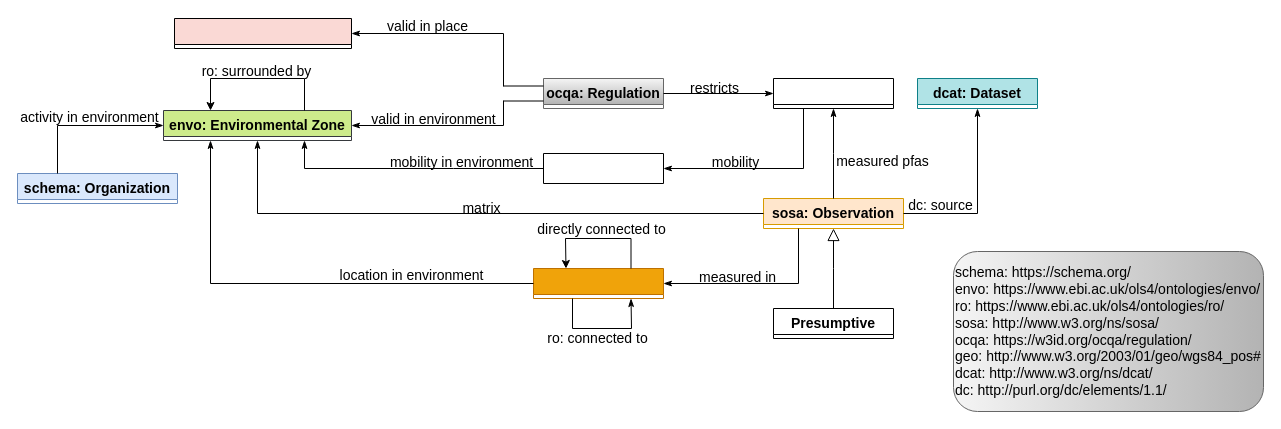
Some shapes in this 1281 by 429 pixel diagram are drawn without their labels. The box of each missing label's shape, as (x1, y1, x2, y2) in pixels:
geo: Location: (532, 268, 664, 298)
Pfas: (772, 78, 894, 108)
Pfas mobility: (542, 152, 664, 184)
schema: Place: (174, 18, 352, 48)
